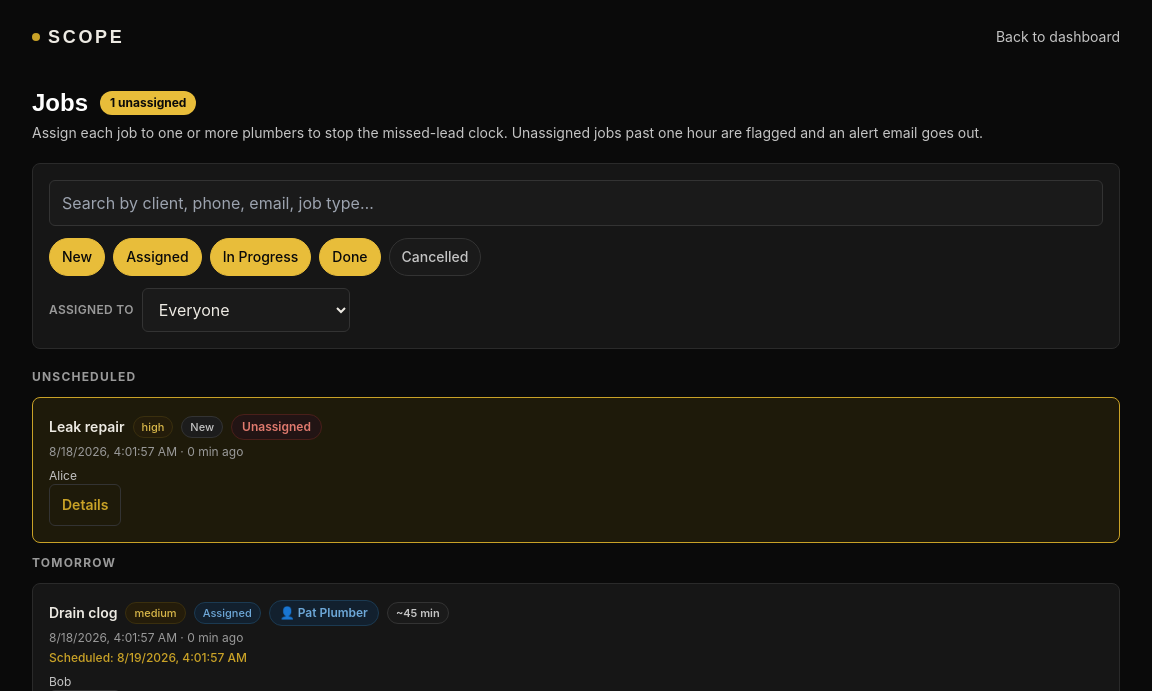
Test: JobsQueue role-gated schedule/duration controls › owner sees both the schedule-window and duration controls, and notes, when expanded
Click the button "Details" below "Alice" at x=85, y=505, box [49,484,122,526]
(page scrolled)
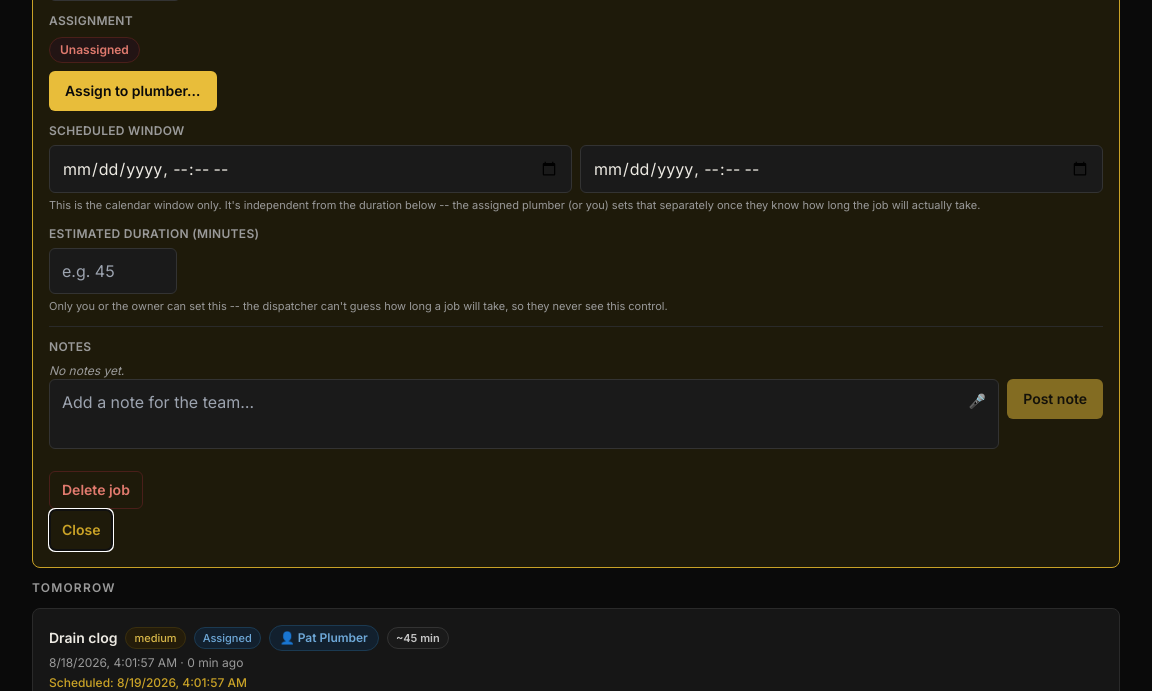
Check: the text "Scheduled window" is shown, box [49,123,184,138]
Check: the text "Estimated duration (minutes)" is shown, box [49,226,259,240]
Check: the text "Notes" is shown, box [49,339,92,354]
